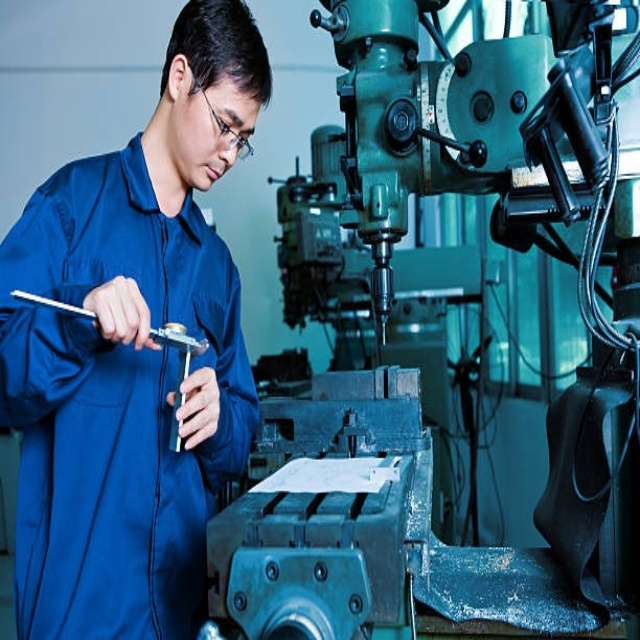Gafas: (194, 80, 253, 161)
Sin_guantes: (83, 273, 155, 351), (166, 364, 222, 449)
Sin_mascara: (192, 162, 226, 195)
